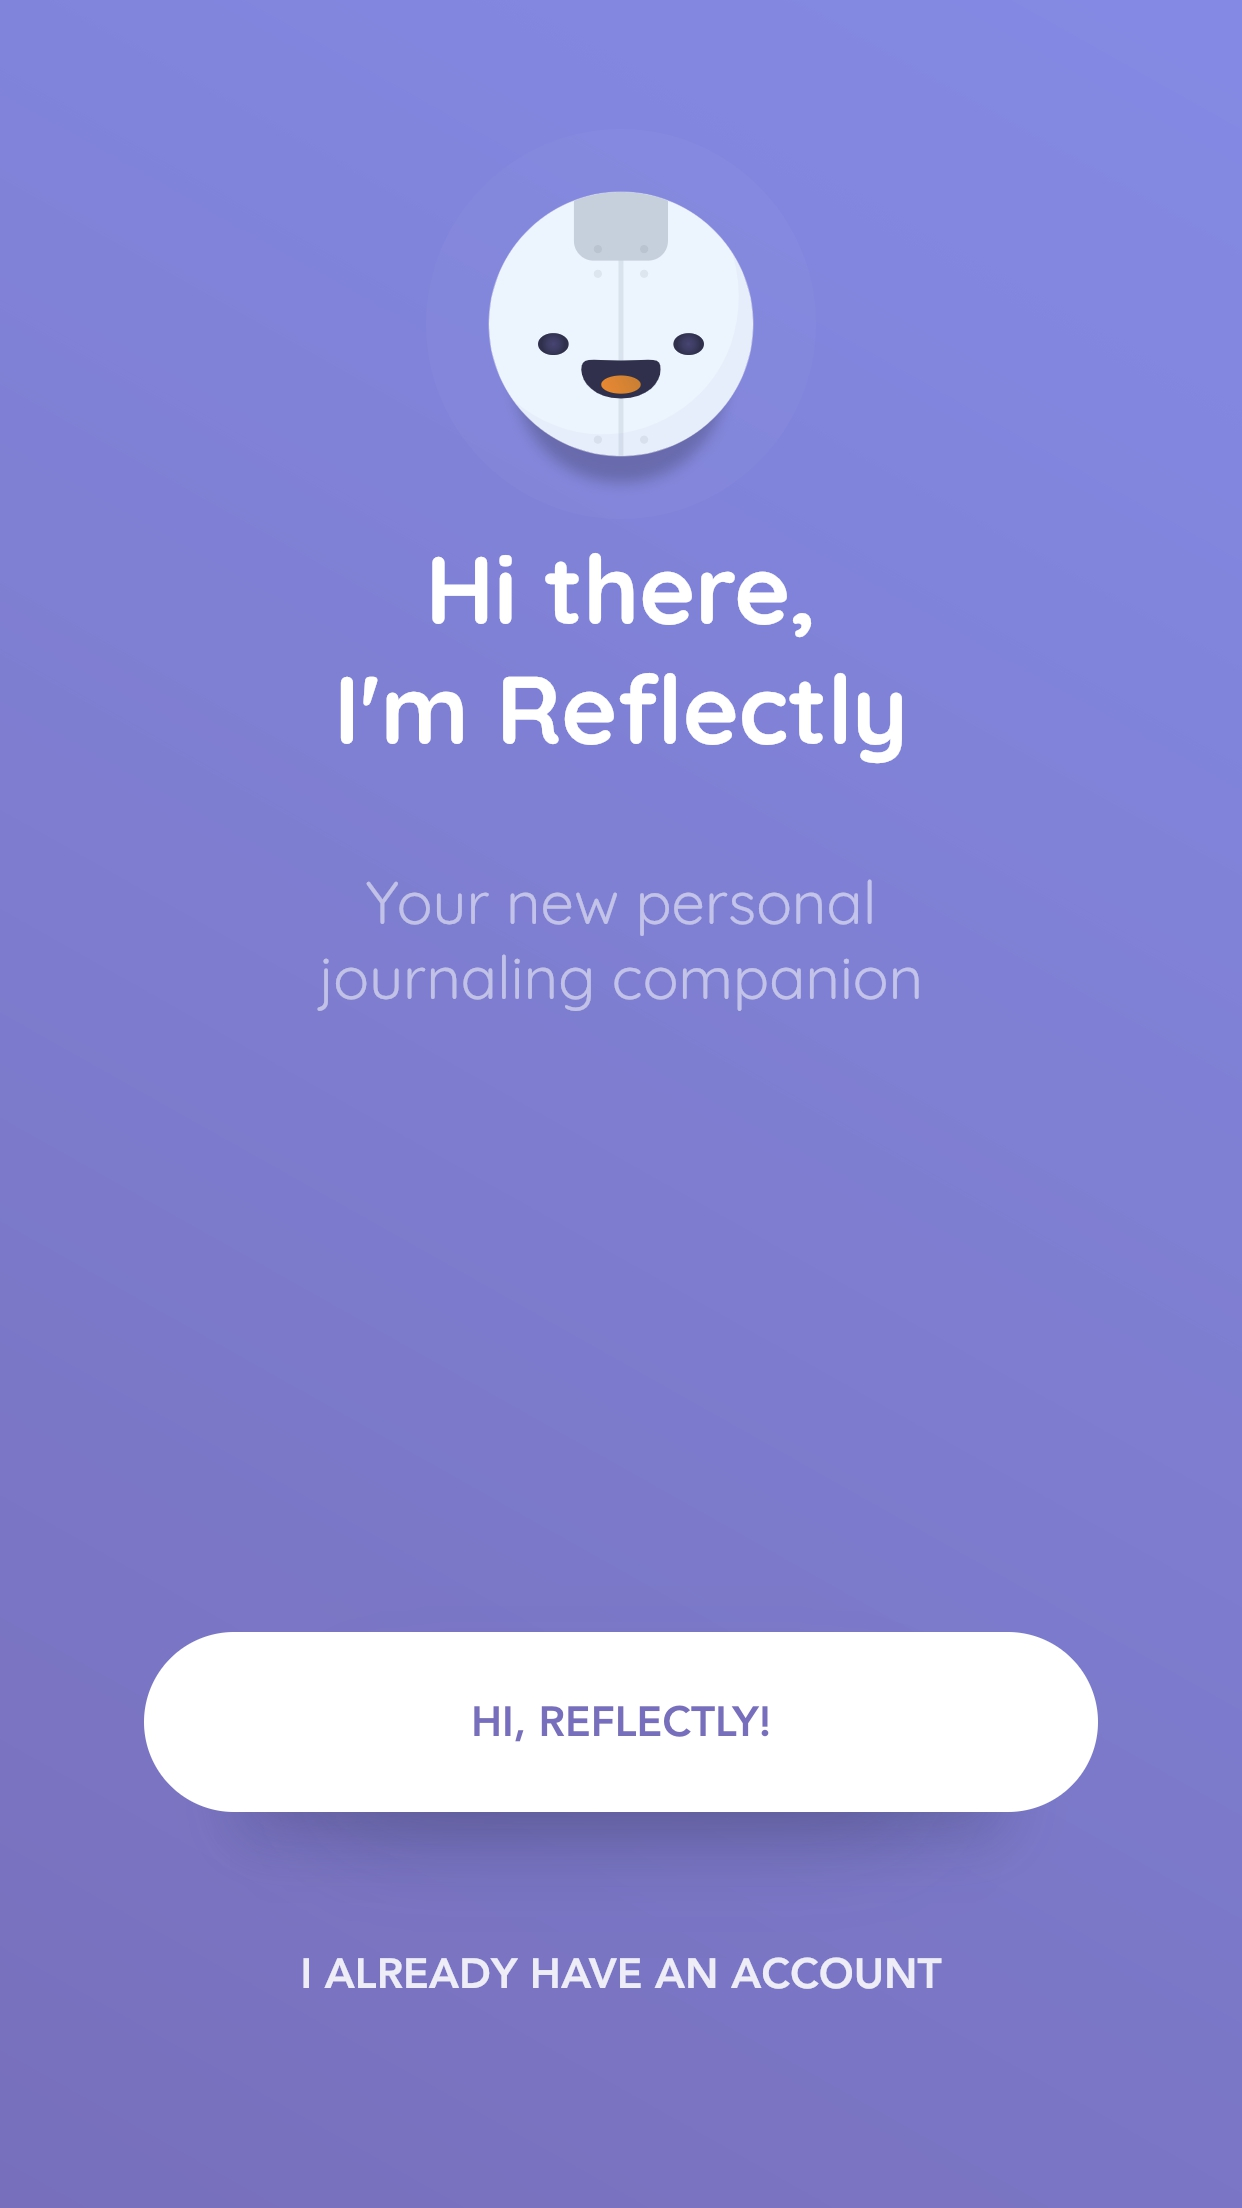Image: (488, 193, 755, 458)
Text: (340, 554, 902, 766), (317, 878, 921, 1013), (302, 1956, 943, 1990)
TextButton: (144, 1632, 1099, 1814)
